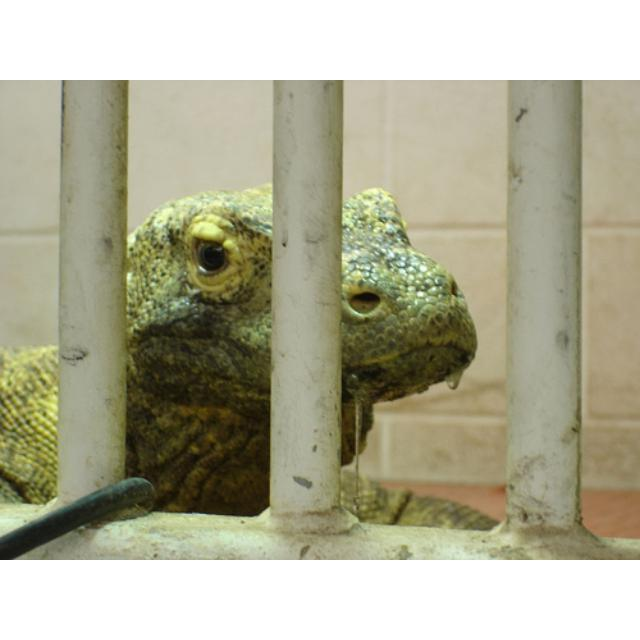KomodoDragon: (1, 180, 502, 530)
